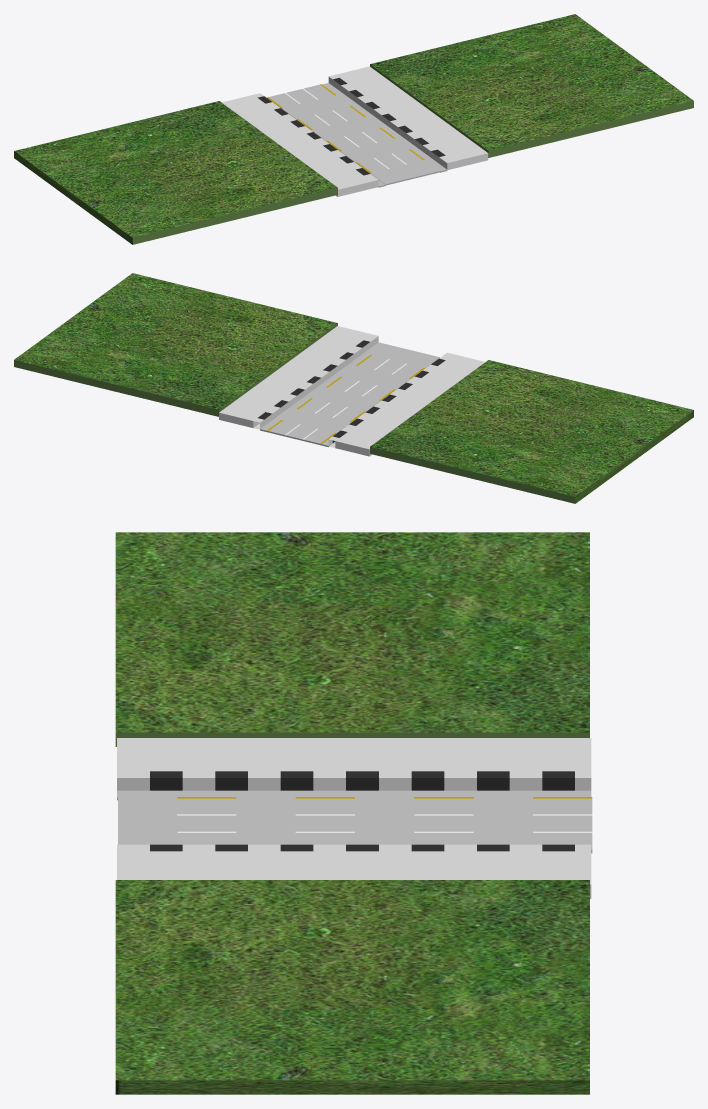
File: road2 (no trees).fbx
3 renders of one model, top to bottom at view 1: azimuth 30°, elevation 25°; view 2: azimuth 150°, elevation 25°; view 3: azimuth 270°, elevation 25°, orthographic. The views are drawn at different scales.
Parts seen in each view (by area): view 1: Cube.003; view 2: Cube.003; view 3: Cube.003.
Part boxes in pixels (x1,y1,x2,y2): Cube.003: (14, 14, 693, 244); Cube.003: (14, 273, 693, 503); Cube.003: (115, 532, 592, 1094).
Bounding box in the file's own units: 8201 × 145 × 3014.
9 materials, 1 textured.
